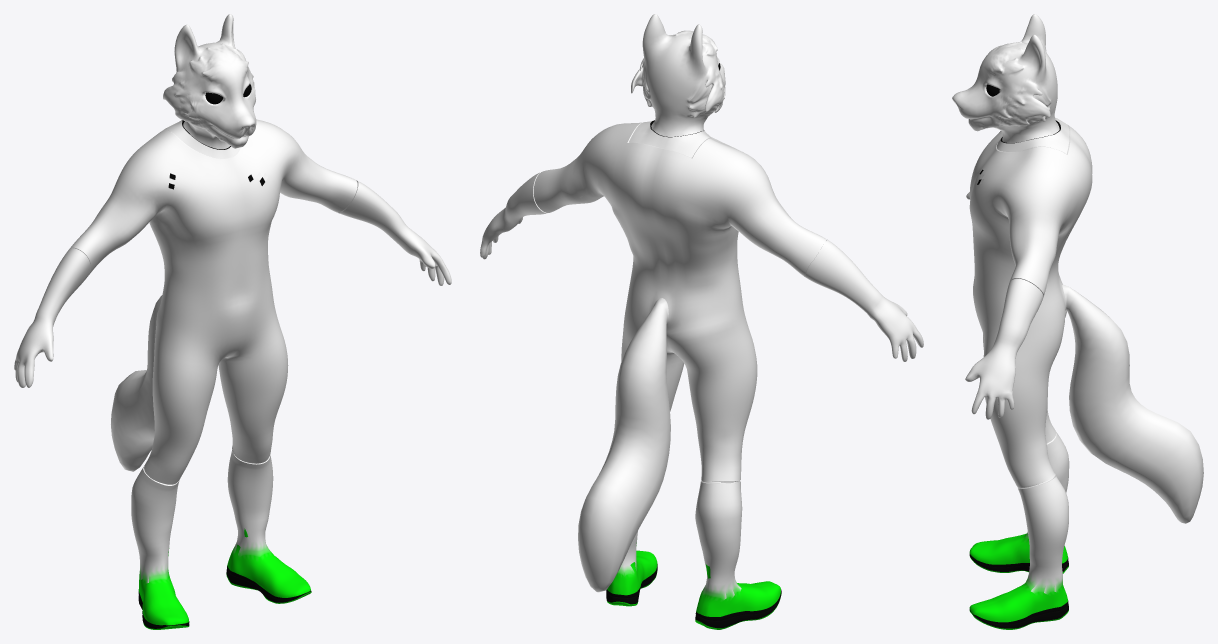
The model's file is wolf_with_costume1.fbx.
The picture shows the model from 3 angles, left to right: view 1: azimuth 30°, elevation 25°; view 2: azimuth 150°, elevation 25°; view 3: azimuth 270°, elevation 25°; orthographic projection. The views are drawn at different scales.
Parts seen in each view (by area): view 1: fox_low6; view 2: fox_low6; view 3: fox_low6.
Part boxes in pixels (x1,y1,x2,y2): fox_low6: (14, 14, 451, 629); fox_low6: (480, 14, 923, 629); fox_low6: (952, 14, 1203, 629).
Bounding box in the file's own units: 23.56 × 30.7 × 12.3.
